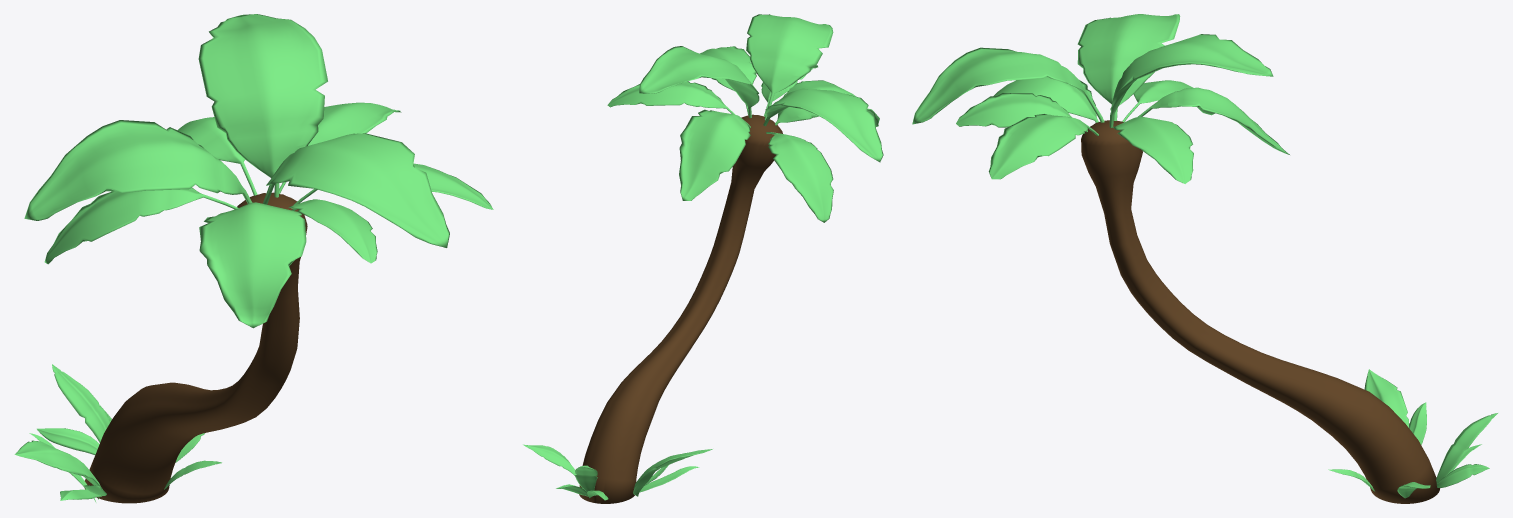
Rendered from Tree.fbx.
3 renders of one model, left to right at view 1: azimuth 30°, elevation 25°; view 2: azimuth 150°, elevation 25°; view 3: azimuth 270°, elevation 25°, orthographic. The views are drawn at different scales.
Visible parts, largest first — view 1: Tree leaves, TreeTrunk, Leaves; view 2: Tree leaves, TreeTrunk, Leaves; view 3: Tree leaves, TreeTrunk, Leaves.
Part boxes in pixels (x1=…): Tree leaves: x1=24, y1=14, x2=493, y2=328; TreeTrunk: x1=84, y1=192, x2=307, y2=503; Leaves: x1=14, y1=364, x2=221, y2=502; Tree leaves: x1=607, y1=14, x2=883, y2=222; TreeTrunk: x1=579, y1=114, x2=782, y2=503; Leaves: x1=523, y1=444, x2=712, y2=500; Tree leaves: x1=912, y1=14, x2=1289, y2=183; TreeTrunk: x1=1081, y1=120, x2=1440, y2=503; Leaves: x1=1328, y1=369, x2=1497, y2=498.
Size of the model in its own units: 734 by 991 by 1179.
